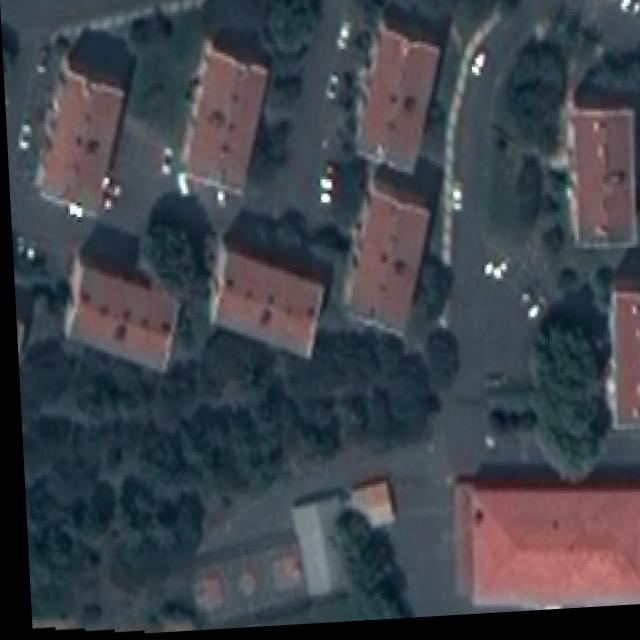Batiment: (450, 472, 640, 611), (215, 214, 328, 361), (182, 42, 267, 196), (37, 68, 124, 213), (68, 259, 175, 374), (359, 30, 439, 176), (347, 191, 427, 334), (186, 535, 299, 624), (568, 116, 634, 254), (286, 494, 340, 600), (610, 256, 640, 431), (345, 484, 390, 531)
